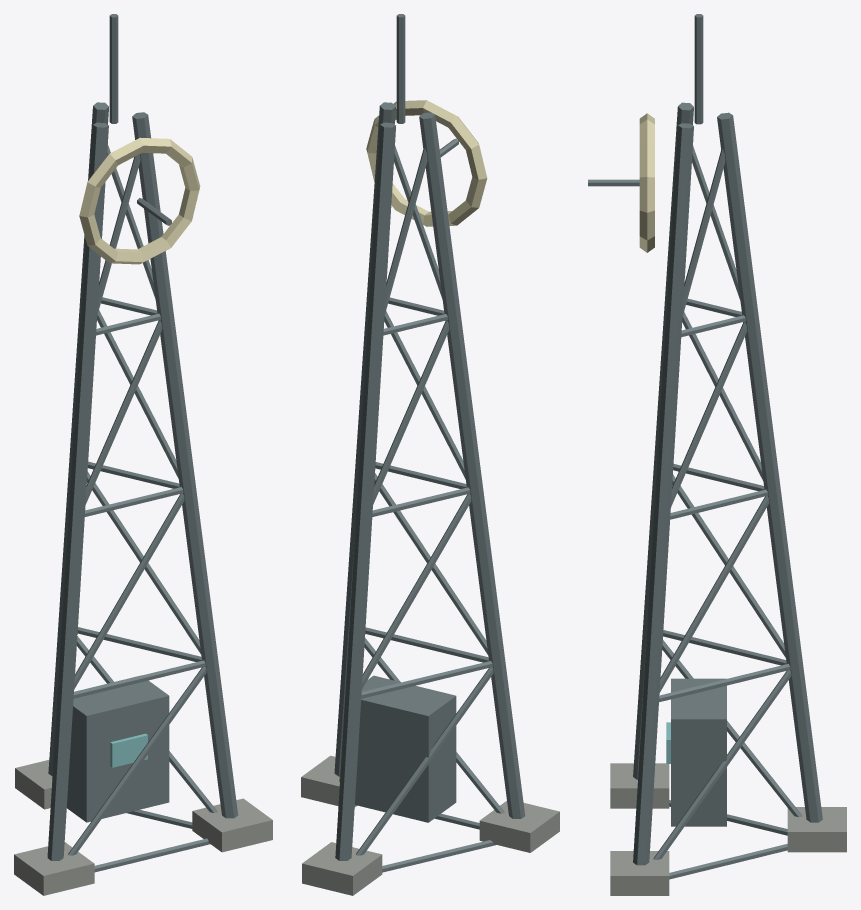
File: campaign_antenna.glb
The picture shows the model from 3 angles, left to right: view 1: azimuth 30°, elevation 25°; view 2: azimuth 150°, elevation 25°; view 3: azimuth 270°, elevation 25°; orthographic projection.
Visible parts, largest first — view 1: campaign_antenna; view 2: campaign_antenna; view 3: campaign_antenna.
Boxes of the visible parts, x1=… form: campaign_antenna: x1=14, y1=14, x2=272, y2=895; campaign_antenna: x1=301, y1=14, x2=559, y2=895; campaign_antenna: x1=588, y1=14, x2=846, y2=895.
Size of the model in its own units: 1.8 by 6.18 by 1.75.
